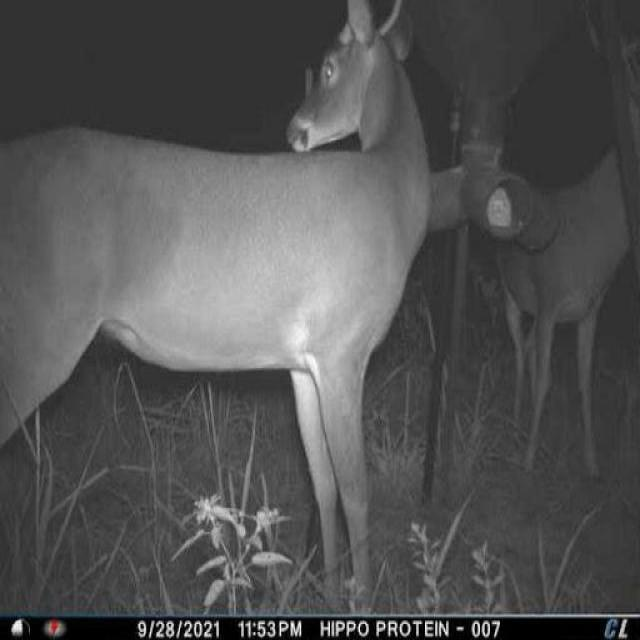deer: (2, 0, 445, 613), (486, 3, 640, 490)
